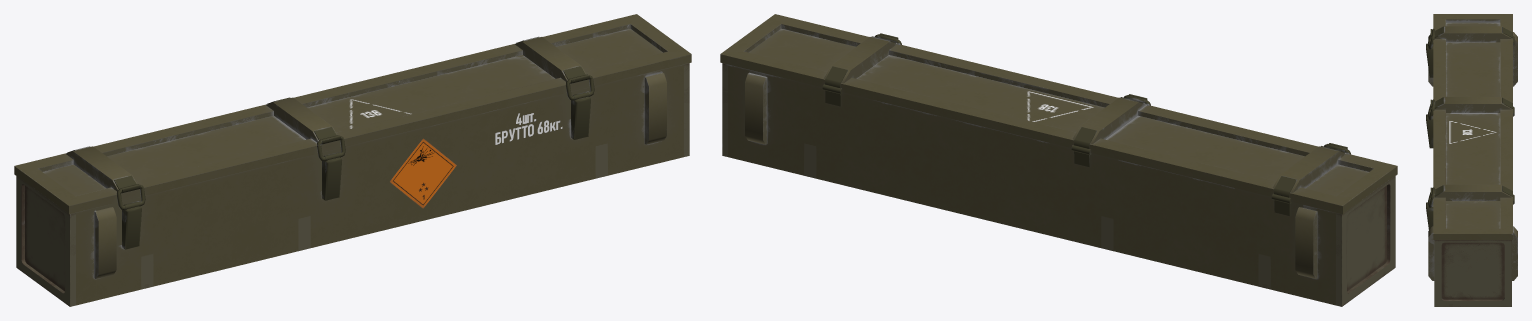
File: military_crate_ussr.glb
The picture shows the model from 3 angles, left to right: view 1: azimuth 30°, elevation 25°; view 2: azimuth 150°, elevation 25°; view 3: azimuth 270°, elevation 25°; orthographic projection. The views are drawn at different scales.
Visible parts, largest first — view 1: Model_0; view 2: Model_0; view 3: Model_0.
Boxes of the visible parts, left/top/right/bottom form: Model_0: left=14, top=14, right=691, bottom=306; Model_0: left=720, top=14, right=1397, bottom=306; Model_0: left=1426, top=14, right=1517, bottom=306.
Size of the model in its own units: 1.26 by 0.2123 by 0.2221.
1 material, 1 textured.
